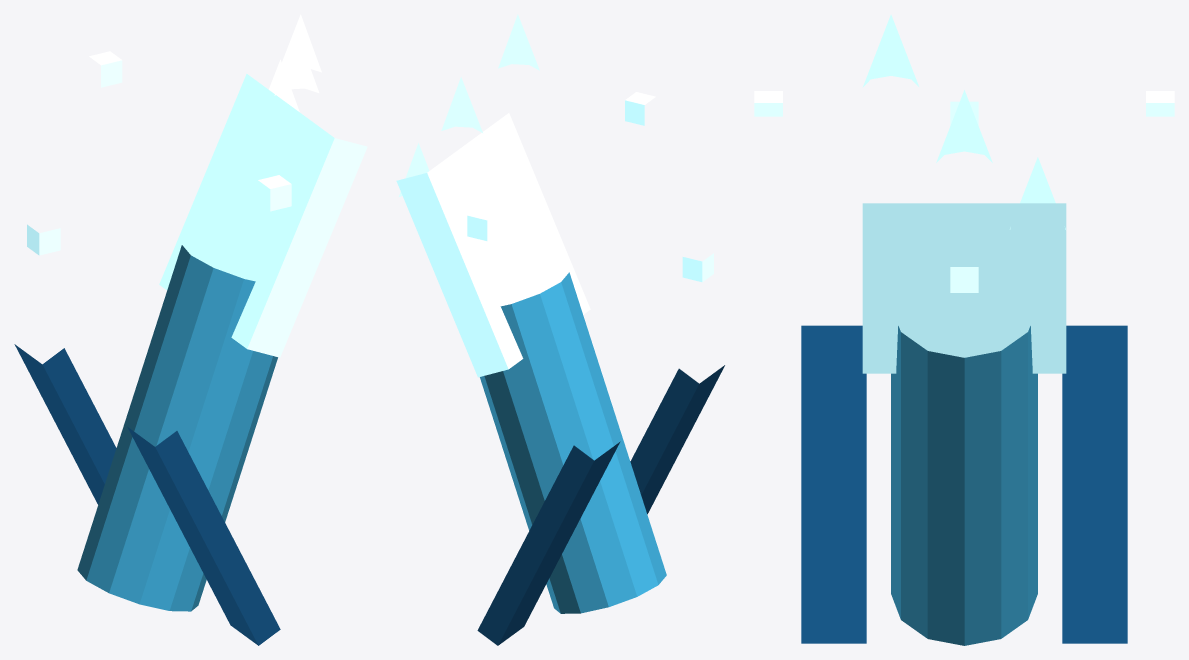
File: morphling.glb
3 views of the same model, side by side, from view 1: azimuth 30°, elevation 25°; view 2: azimuth 150°, elevation 25°; view 3: azimuth 270°, elevation 25° (orthographic). The views are drawn at different scales.
Parts seen in each view (by area): view 1: morphling-wave-body, morphling-crest-wave, morphling-ripple-l, morphling-ripple-r, morphling-droplet-2, morphling-flair-mote-2, morphling-droplet-1, morphling-flair-mote-3, morphling-flair-mote-1; view 2: morphling-wave-body, morphling-crest-wave, morphling-ripple-r, morphling-ripple-l, morphling-droplet-2, morphling-droplet-1, morphling-flair-mote-2, morphling-flair-mote-3, morphling-flair-mote-1; view 3: morphling-wave-body, morphling-crest-wave, morphling-ripple-l, morphling-ripple-r, morphling-droplet-1, morphling-droplet-2, morphling-droplet-0, morphling-flair-mote-0, morphling-flair-mote-1, morphling-flair-mote-3.
Part boxes in pixels (x1,y1,x2,y2): morphling-wave-body: [77, 245, 277, 611]; morphling-crest-wave: [159, 74, 367, 357]; morphling-ripple-l: [127, 426, 280, 645]; morphling-ripple-r: [14, 344, 116, 504]; morphling-droplet-2: [277, 14, 321, 74]; morphling-flair-mote-2: [27, 224, 60, 255]; morphling-droplet-1: [274, 67, 319, 95]; morphling-flair-mote-3: [89, 51, 122, 87]; morphling-flair-mote-1: [258, 175, 291, 211]; morphling-wave-body: [480, 272, 666, 613]; morphling-crest-wave: [396, 113, 590, 377]; morphling-ripple-r: [477, 441, 620, 645]; morphling-ripple-l: [630, 365, 724, 514]; morphling-droplet-2: [498, 14, 539, 70]; morphling-droplet-1: [441, 77, 482, 132]; morphling-flair-mote-2: [682, 253, 713, 282]; morphling-flair-mote-3: [467, 207, 498, 240]; morphling-flair-mote-1: [625, 92, 655, 125]; morphling-wave-body: [891, 326, 1037, 645]; morphling-crest-wave: [862, 203, 1066, 373]; morphling-ripple-l: [801, 325, 866, 643]; morphling-ripple-r: [1062, 325, 1127, 643]; morphling-droplet-1: [936, 90, 992, 162]; morphling-droplet-2: [862, 14, 918, 87]; morphling-droplet-0: [1009, 157, 1065, 229]; morphling-flair-mote-0: [950, 267, 978, 292]; morphling-flair-mote-1: [754, 91, 782, 116]; morphling-flair-mote-3: [1146, 91, 1174, 116].
Size of the model in its own units: 1.03 by 1.83 by 1.03.
